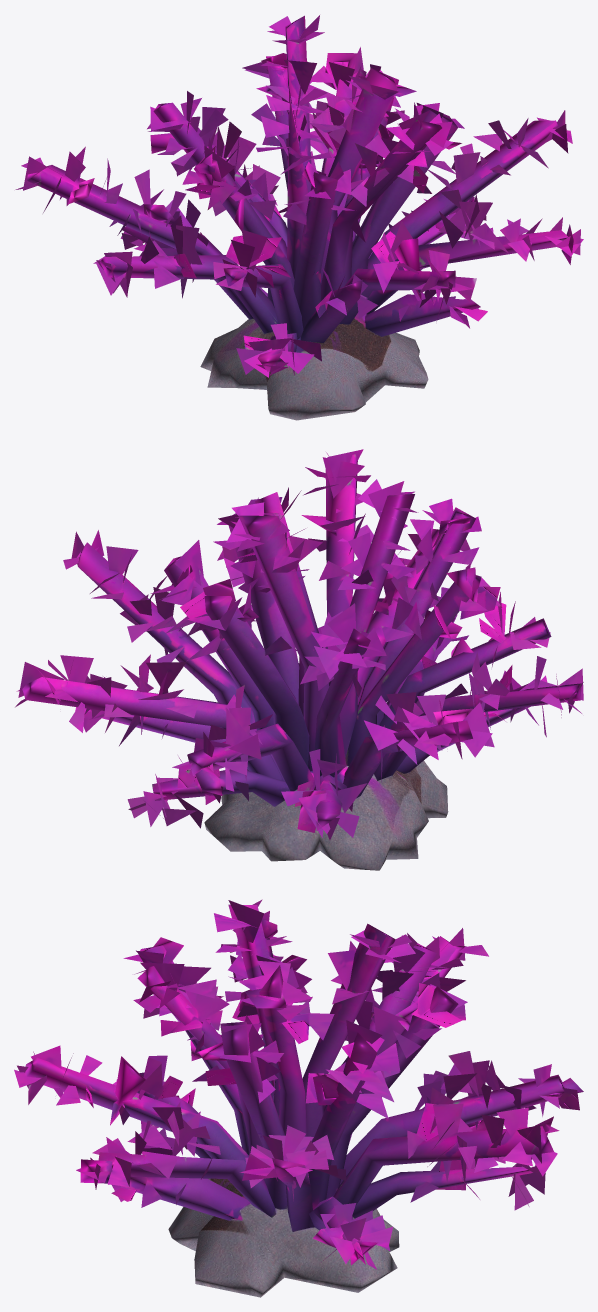
Rendered from coral-fan.glb.
The picture shows the model from 3 angles, top to bottom: view 1: azimuth 30°, elevation 25°; view 2: azimuth 150°, elevation 25°; view 3: azimuth 270°, elevation 25°; orthographic projection. The views are drawn at different scales.
Bounding box in the file's own units: 1 × 0.6469 × 0.9992.
Materials: 1 (1 with a texture image).
